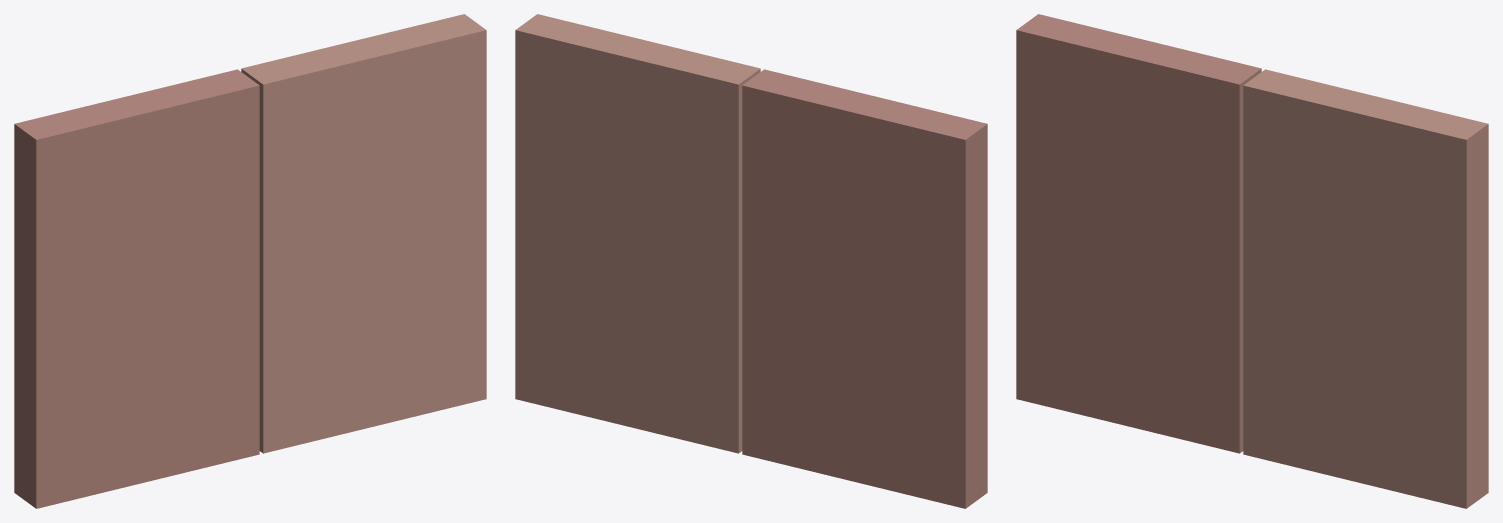
File: dranmar_rescue_abdominal_wall_approximated.glb
The picture shows the model from 3 angles, left to right: view 1: azimuth 30°, elevation 25°; view 2: azimuth 150°, elevation 25°; view 3: azimuth 330°, elevation 25°; orthographic projection.
Parts seen in each view (by area): view 1: LeftWall, RightWall; view 2: LeftWall, RightWall; view 3: RightWall, LeftWall.
Boxes of the visible parts, <box> form: LeftWall: <box>14,69,259,508</box>; RightWall: <box>241,14,486,453</box>; LeftWall: <box>742,69,987,508</box>; RightWall: <box>515,14,760,453</box>; RightWall: <box>1243,69,1488,508</box>; LeftWall: <box>1016,14,1261,453</box>.
Bounding box in the file's own units: 0.3064 × 0.24 × 0.026.
